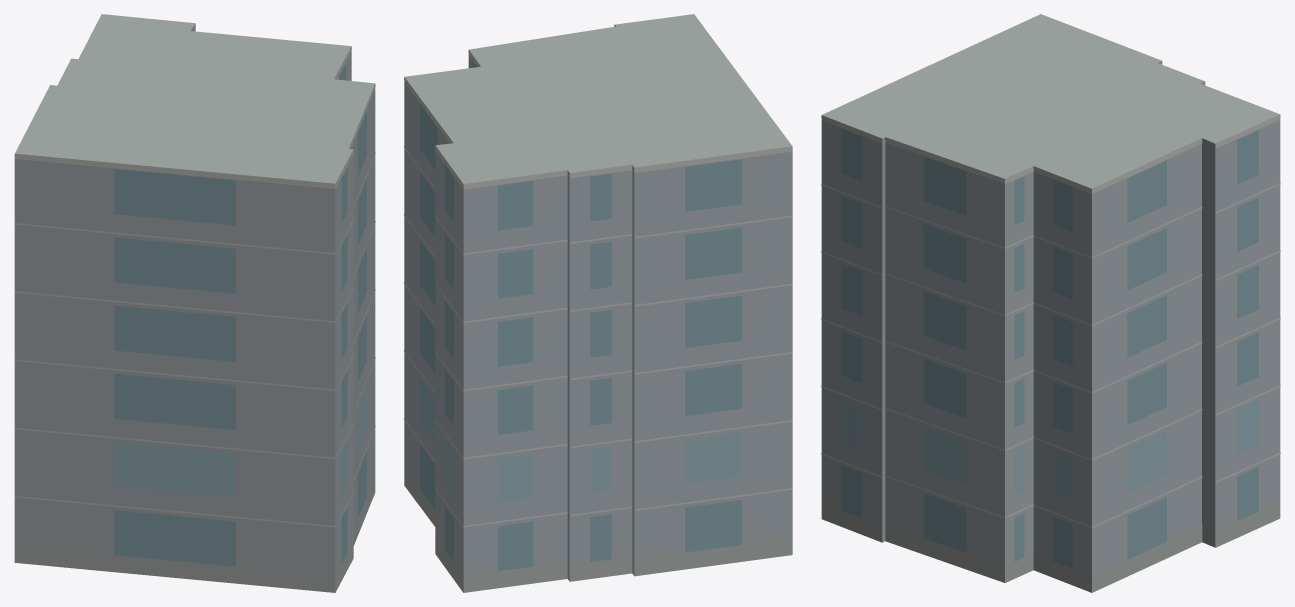
The model's file is survey-upis-32765240.glb.
3 views of the same model, side by side, from view 1: azimuth 30°, elevation 25°; view 2: azimuth 150°, elevation 25°; view 3: azimuth 270°, elevation 25° (orthographic).
Parts seen in each view (by area): view 1: survey-upis-32765240.tmp; view 2: survey-upis-32765240.tmp; view 3: survey-upis-32765240.tmp.
Part boxes in pixels (left/top/right/bottom): survey-upis-32765240.tmp: left=14, top=14, right=375, bottom=592; survey-upis-32765240.tmp: left=404, top=14, right=792, bottom=592; survey-upis-32765240.tmp: left=821, top=14, right=1280, bottom=592.
Size of the model in its own units: 17.27 by 18.6 by 19.16.
